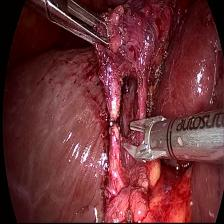Clipper: (114, 100, 182, 170)
Grasper: (43, 0, 114, 53)
